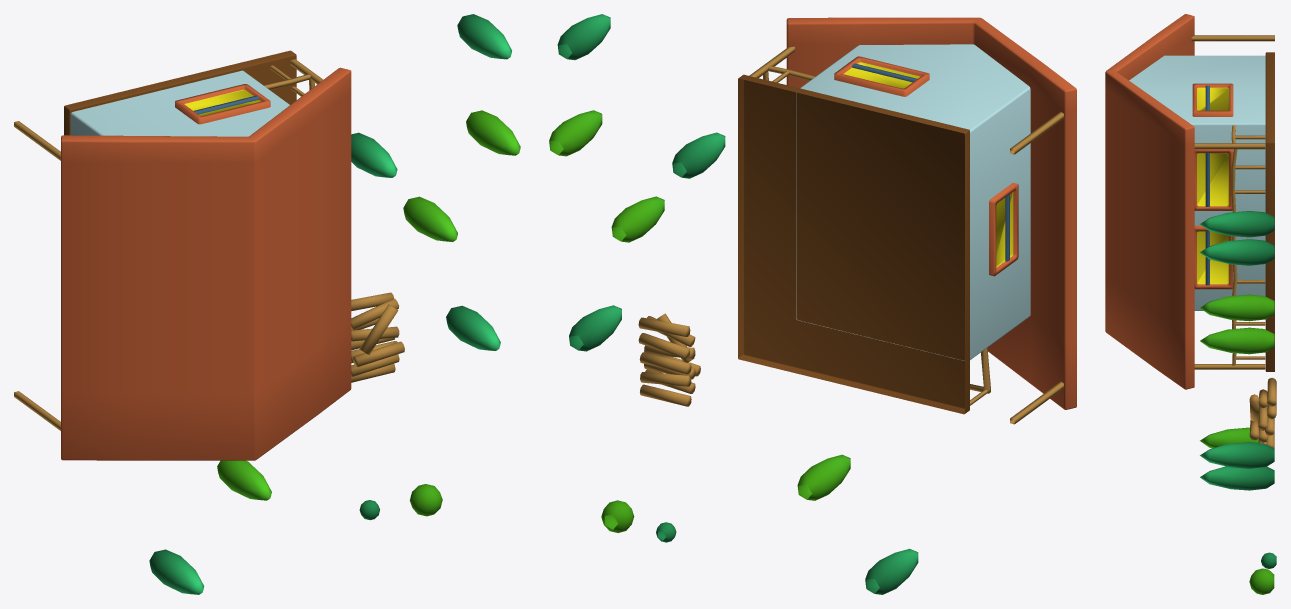
The model's file is Simple_House_02_05.fbx.
The picture shows the model from 3 angles, left to right: view 1: azimuth 30°, elevation 25°; view 2: azimuth 150°, elevation 25°; view 3: azimuth 270°, elevation 25°; orthographic projection. The views are drawn at different scales.
Parts seen in each view (by area): view 1: Simple_House_02_05; view 2: Simple_House_02_05; view 3: Simple_House_02_05.
Part boxes in pixels (<box>): Simple_House_02_05: <box>14,14,520,594</box>; Simple_House_02_05: <box>549,14,1076,594</box>; Simple_House_02_05: <box>1105,14,1276,594</box>.
Bounding box in the file's own units: 183 × 186 × 69.37.
